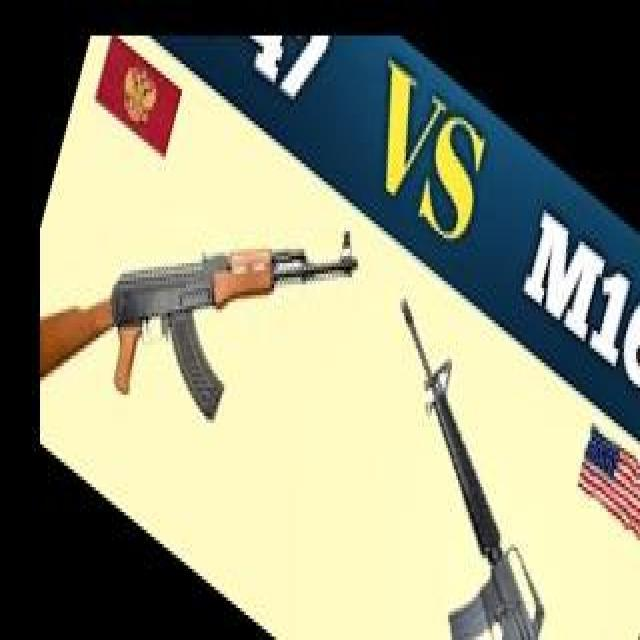weapon: (40, 228, 360, 422), (398, 294, 546, 640)
